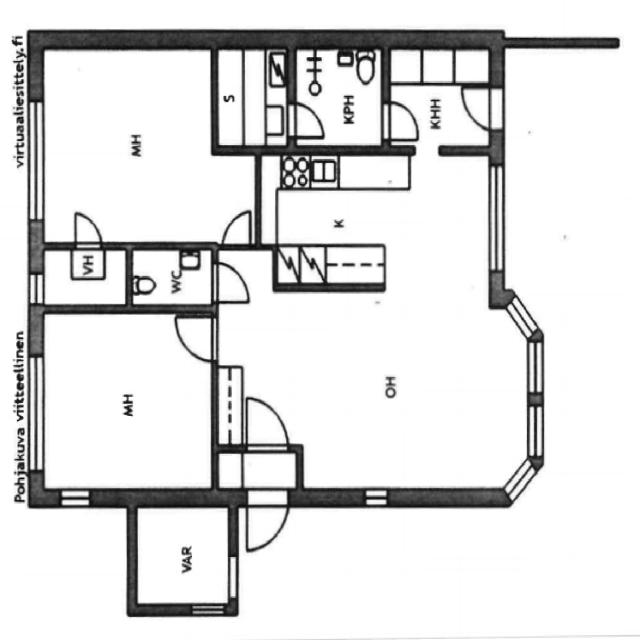door: (243, 492, 291, 555), (242, 392, 292, 451), (174, 310, 218, 362), (458, 85, 502, 132), (380, 97, 423, 142), (211, 259, 252, 305), (286, 97, 326, 142), (67, 205, 107, 249), (220, 206, 256, 247)
window: (21, 94, 52, 230), (483, 157, 511, 280), (24, 350, 50, 480), (185, 598, 229, 624), (54, 485, 96, 512), (502, 468, 534, 495), (27, 264, 46, 308), (609, 28, 639, 55)
zone: (259, 155, 511, 508), (497, 42, 640, 350), (38, 45, 239, 246), (35, 305, 218, 499), (264, 155, 399, 288), (383, 42, 498, 154), (134, 501, 232, 609), (290, 41, 385, 152), (215, 40, 289, 150), (40, 244, 128, 311), (128, 246, 216, 310)
